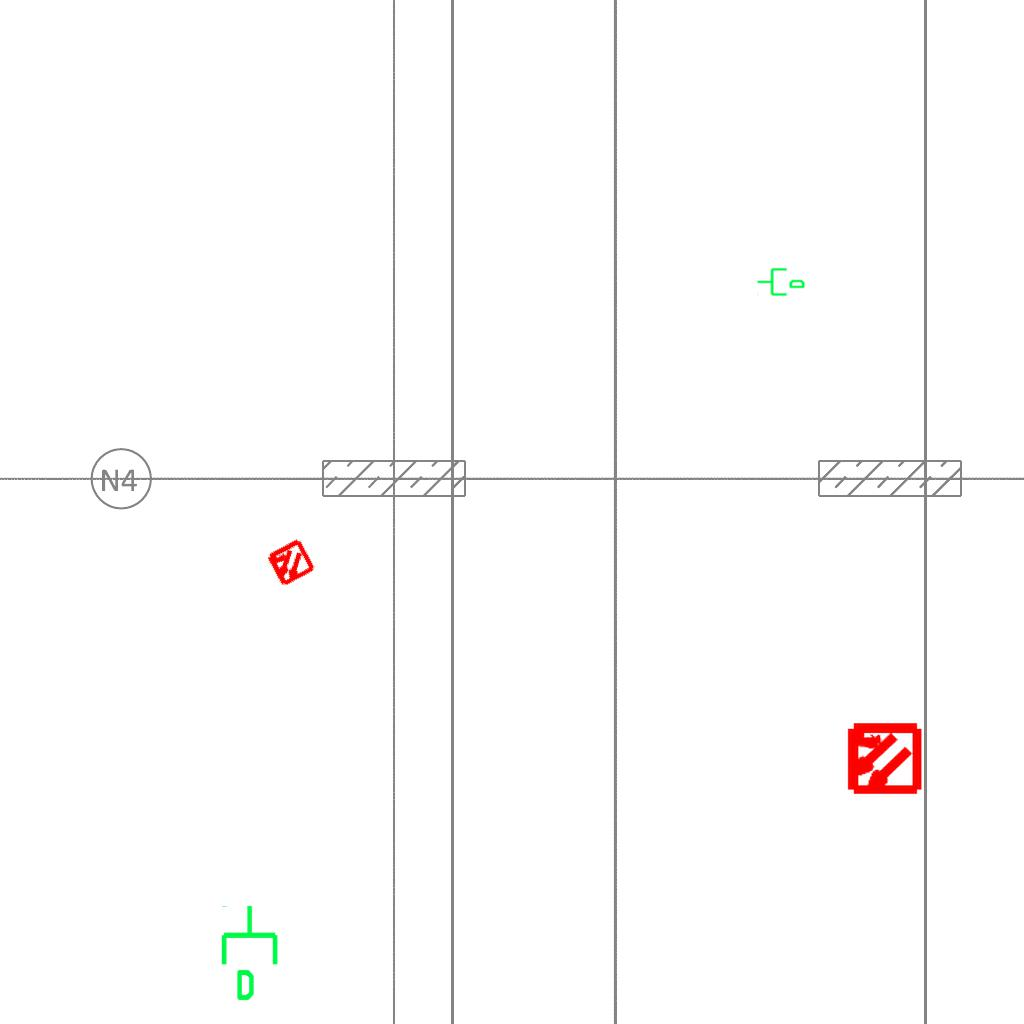Datenanschluss_einfach: (217, 903, 286, 1003), (756, 264, 806, 298)
OT_Multisensormelder_(Kombination_RMO_WMD): (826, 702, 939, 815), (252, 525, 328, 601)
